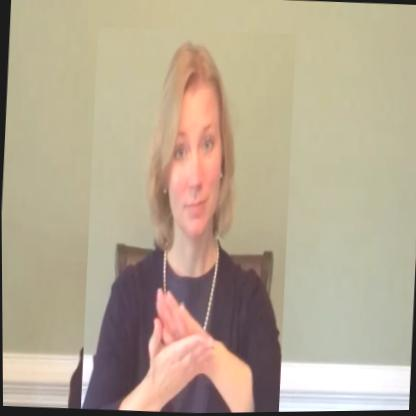NiceToMeetYou: (77, 25, 297, 415)
